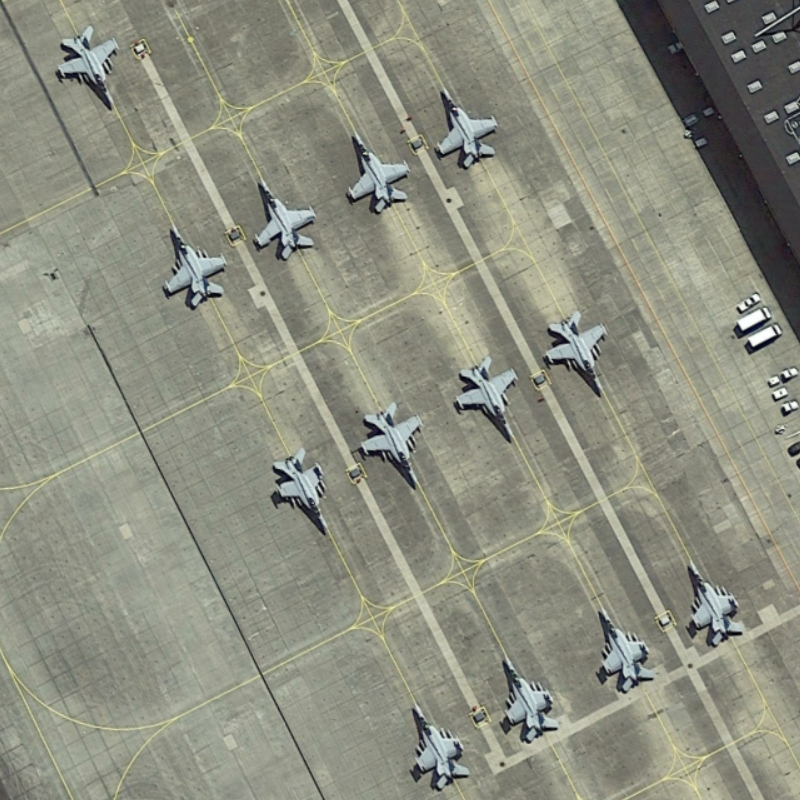A16: (353, 394, 436, 500), (443, 344, 527, 447), (262, 433, 341, 540), (50, 20, 133, 120), (153, 216, 234, 318), (534, 300, 616, 400), (588, 595, 662, 700), (246, 166, 322, 268), (335, 128, 420, 217), (399, 696, 475, 795), (493, 647, 566, 748), (426, 79, 504, 173), (681, 554, 752, 651)
